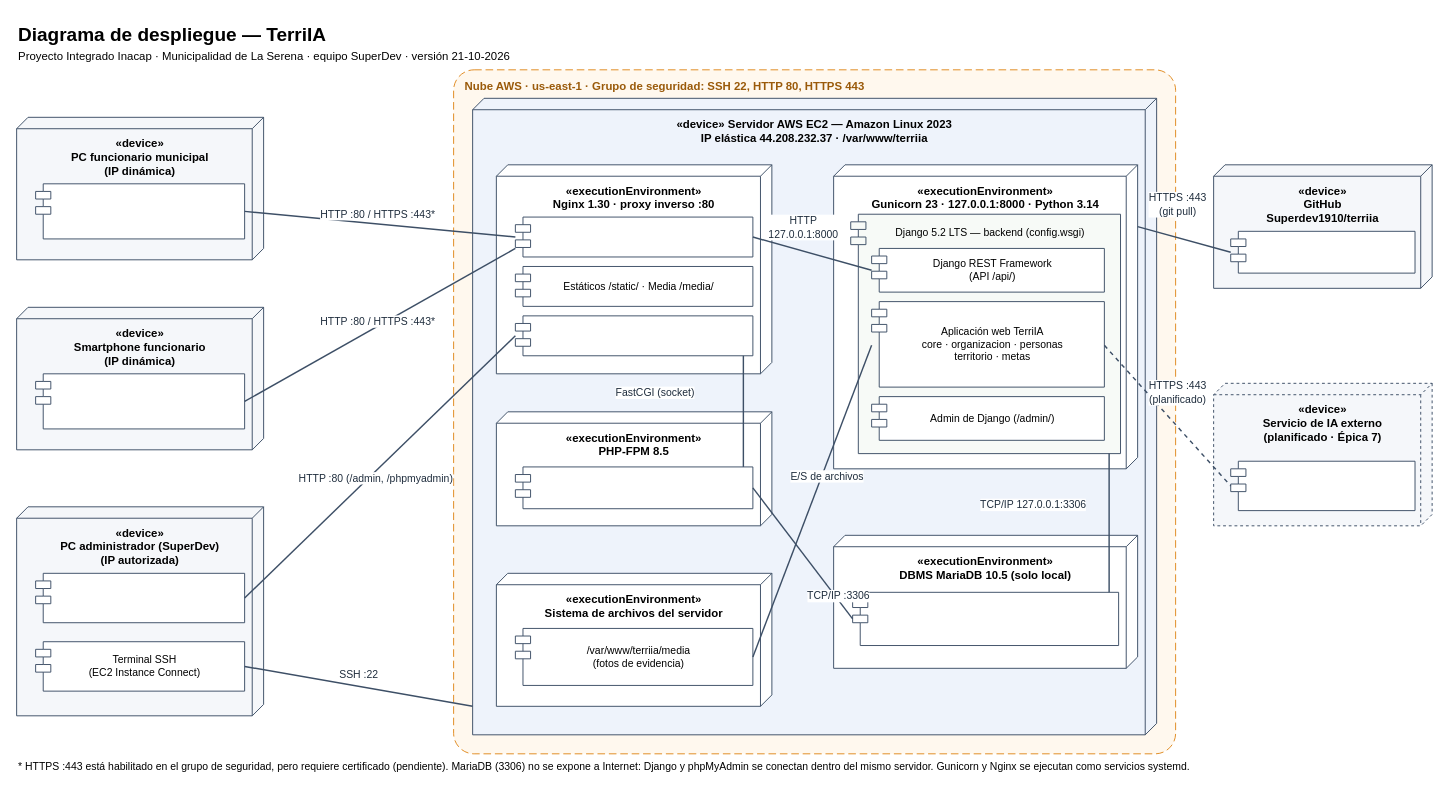
This 1449x808 diagram has some shape labels left out. The shapes that lost their labels are listed below. From the top down, each one's centre as x and y in pixels, then its label:
At [140,211]: "Navegador web (Chrome / Edge / Firefox)".
At [633,236]: "Proxy / → Gunicorn".
At [1322,251]: "Repositorio Git (main)".
At [633,335]: "Ruta /phpmyadmin (solo IP autorizada)".
At [140,401]: "Navegador móvil (cámara y GPS para evidencias)".
At [633,487]: "phpMyAdmin".
At [1322,485]: "API de IA (sugiere área y prioridad)".
At [140,597]: "Navegador web (/admin y /phpmyadmin)".
At [985,618]: "Base de datos terriia (utf8mb4 · usuario terriia)".
